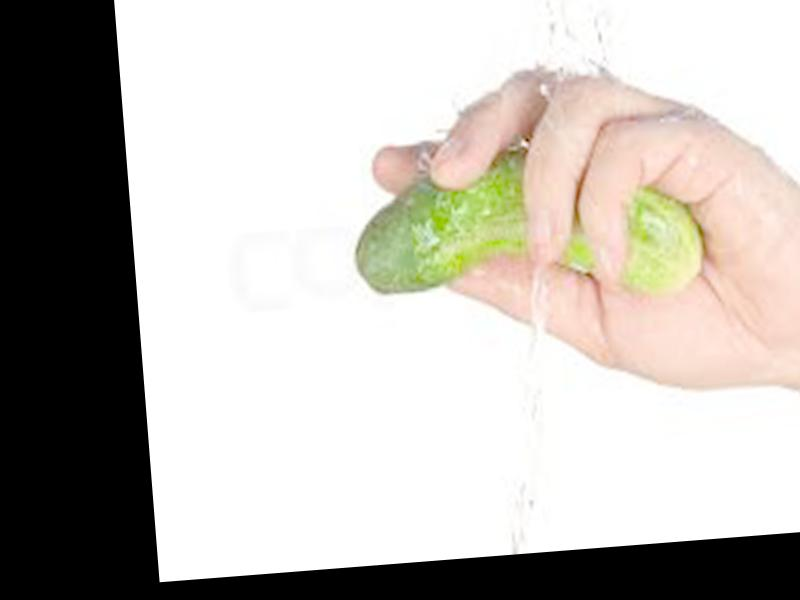Cucumber: (346, 145, 703, 313)
